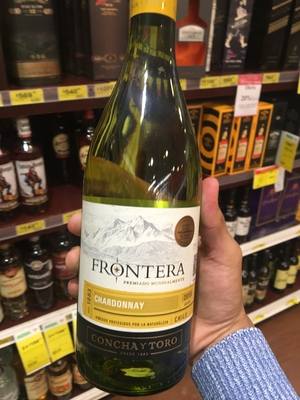frontera chardonnay: (63, 10, 227, 400)
